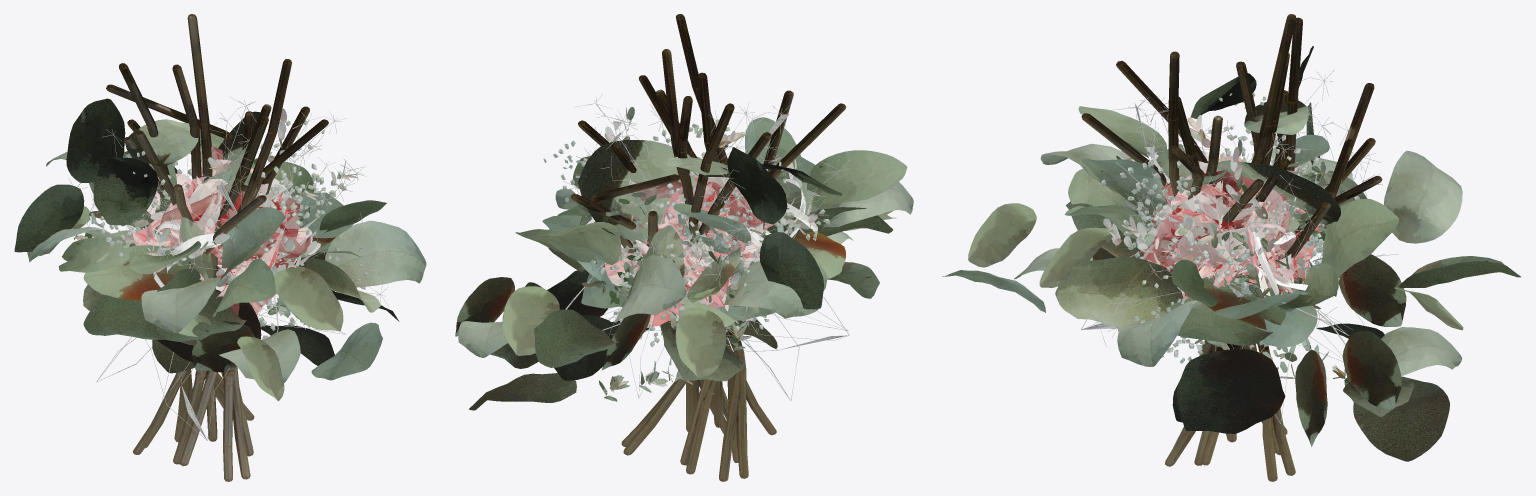
File: flower_bouquet_mini.glb
3 views of the same model, side by side, from view 1: azimuth 30°, elevation 25°; view 2: azimuth 150°, elevation 25°; view 3: azimuth 270°, elevation 25° (orthographic). The views are drawn at different scales.
Parts seen in each view (by area): view 1: Leaves_003_Leaves6_0, Stems_Stems_0, Leaves_002_Leaves6_0, Leaves_001_Leaves1_0, SmallPlants_019_SmallPlants1_0, SmallPlants_002_SmallPlants1_0, SmallPlants_007_SmallPlants3_0, Petal_023_Petals8_0, SmallPlants_010_SmallPlants2_0, SmallPlants_009_SmallPlants3_0, Petal_012_Petals12_0, SmallPlants_013_SmallPlants3_0 (+9 smaller); view 2: Leaves_002_Leaves6_0, Stems_Stems_0, Leaves_003_Leaves6_0, Leaves_001_Leaves1_0, SmallPlants_019_SmallPlants1_0, SmallPlants_002_SmallPlants1_0, SmallPlants_003_SmallPlants3_0, Petal_023_Petals8_0, SmallPlants_013_SmallPlants3_0, SmallPlants_016_SmallPlants1_0, SmallPlants_017_SmallPlants3_0, SmallPlants_014_SmallPlants2_0 (+6 smaller); view 3: Leaves_003_Leaves6_0, Leaves_002_Leaves6_0, Leaves_001_Leaves1_0, Stems_Stems_0, SmallPlants_002_SmallPlants1_0, Petal_012_Petals12_0, SmallPlants_019_SmallPlants1_0, Petal_002_Petals2_0, SmallPlants_010_SmallPlants2_0, SmallPlants_009_SmallPlants3_0, Petal_023_Petals8_0, SmallPlants_018_SmallPlants2_0 (+6 smaller).
Boxes of the visible parts, x1,y1,x2,y2 form: Leaves_003_Leaves6_0: (14, 98, 426, 382); Stems_Stems_0: (106, 14, 328, 481); Leaves_002_Leaves6_0: (27, 111, 382, 401); Leaves_001_Leaves1_0: (58, 133, 386, 336); SmallPlants_019_SmallPlants1_0: (74, 160, 357, 284); SmallPlants_002_SmallPlants1_0: (115, 108, 294, 317); SmallPlants_007_SmallPlants3_0: (96, 96, 372, 381); Petal_023_Petals8_0: (155, 146, 245, 266); SmallPlants_010_SmallPlants2_0: (101, 120, 346, 339); SmallPlants_009_SmallPlants3_0: (133, 111, 366, 329); Petal_012_Petals12_0: (216, 178, 299, 297); SmallPlants_013_SmallPlants3_0: (88, 170, 346, 334); Leaves_002_Leaves6_0: (455, 140, 913, 381); Stems_Stems_0: (570, 14, 846, 481); Leaves_003_Leaves6_0: (469, 147, 892, 410); Leaves_001_Leaves1_0: (515, 117, 907, 326); SmallPlants_019_SmallPlants1_0: (604, 126, 803, 350); SmallPlants_002_SmallPlants1_0: (580, 107, 744, 401); SmallPlants_003_SmallPlants3_0: (563, 165, 849, 351); Petal_023_Petals8_0: (621, 177, 763, 277); SmallPlants_013_SmallPlants3_0: (603, 103, 828, 327); SmallPlants_016_SmallPlants1_0: (580, 205, 817, 316); SmallPlants_017_SmallPlants3_0: (609, 102, 798, 326); SmallPlants_014_SmallPlants2_0: (590, 119, 768, 343); Leaves_003_Leaves6_0: (1014, 46, 1449, 461); Leaves_002_Leaves6_0: (942, 143, 1520, 409); Leaves_001_Leaves1_0: (1064, 106, 1399, 345); Stems_Stems_0: (1081, 14, 1382, 481); SmallPlants_002_SmallPlants1_0: (1111, 115, 1349, 385); Petal_012_Petals12_0: (1140, 203, 1324, 277); SmallPlants_019_SmallPlants1_0: (1103, 151, 1326, 293); Petal_002_Petals2_0: (1150, 190, 1313, 278); SmallPlants_010_SmallPlants2_0: (1167, 126, 1296, 357); SmallPlants_009_SmallPlants3_0: (1120, 97, 1343, 361); Petal_023_Petals8_0: (1200, 170, 1297, 288); SmallPlants_018_SmallPlants2_0: (1123, 160, 1327, 345).
Bounding box in the file's own units: 7861 × 9443 × 10940.
Materials: 20 (20 with a texture image).
